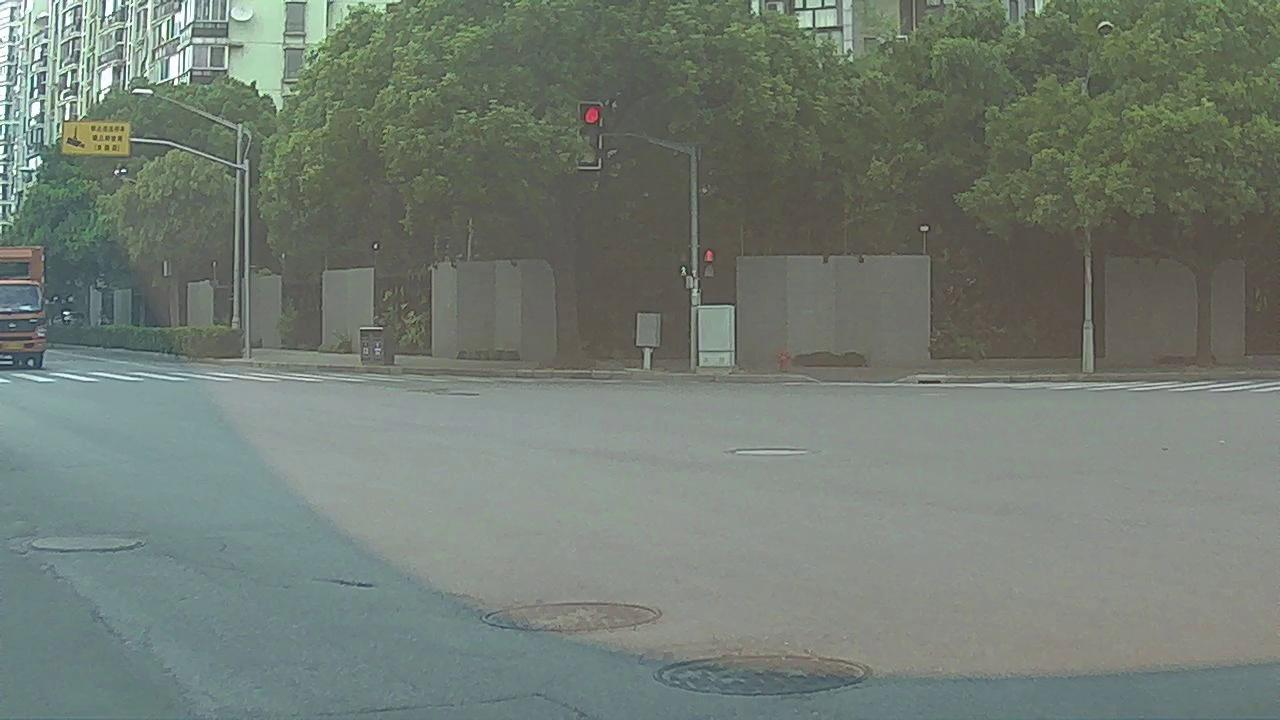traffic_light: (582, 101, 602, 171)
